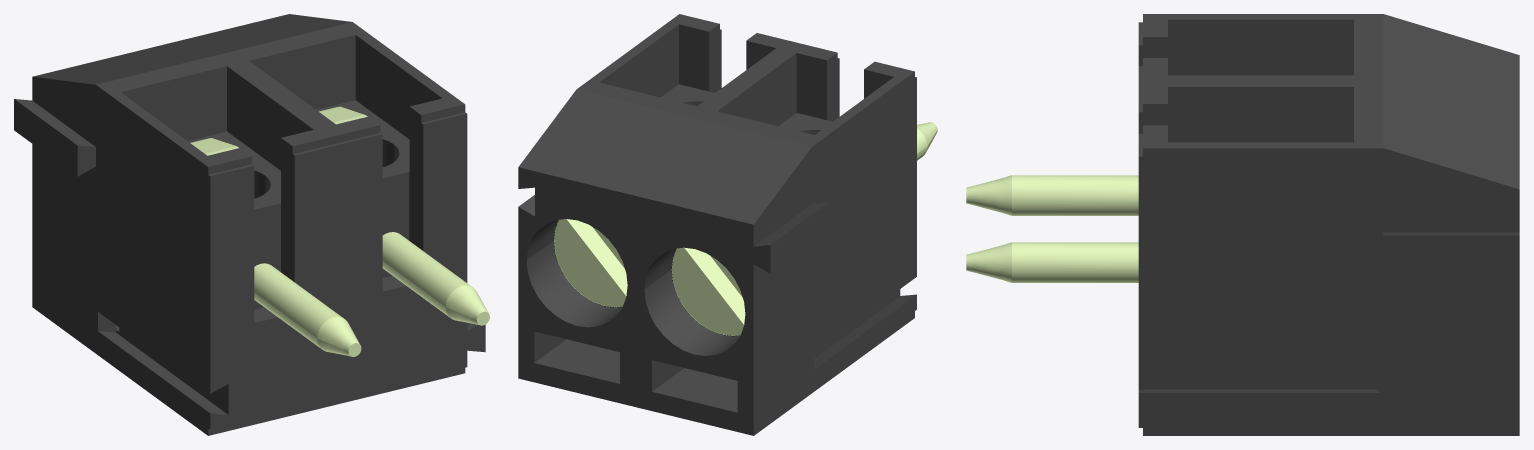
The model's file is sfe-screw_terminal_3.5mm_2p_black.glb.
3 views of the same model, side by side, from view 1: azimuth 30°, elevation 25°; view 2: azimuth 150°, elevation 25°; view 3: azimuth 270°, elevation 25° (orthographic). The views are drawn at different scales.
Visible parts, largest first — view 1: 0.08333333333333333_0.08333333333333333_0.08333333333333333_, 0.8333333333333334_1_0.5_0; view 2: 0.08333333333333333_0.08333333333333333_0.08333333333333333_, 0.8333333333333334_1_0.5_0; view 3: 0.08333333333333333_0.08333333333333333_0.08333333333333333_, 0.8333333333333334_1_0.5_0.
Part boxes in pixels (x1,y1,x2,y2): 0.08333333333333333_0.08333333333333333_0.08333333333333333_: [14, 14, 485, 435]; 0.8333333333333334_1_0.5_0: [190, 106, 489, 356]; 0.08333333333333333_0.08333333333333333_0.08333333333333333_: [518, 14, 916, 435]; 0.8333333333333334_1_0.5_0: [554, 122, 937, 335]; 0.08333333333333333_0.08333333333333333_0.08333333333333333_: [1138, 14, 1519, 435]; 0.8333333333333334_1_0.5_0: [966, 175, 1138, 282].
Bounding box in the file's own units: 0.7994 × 0.7 × 1.22.
